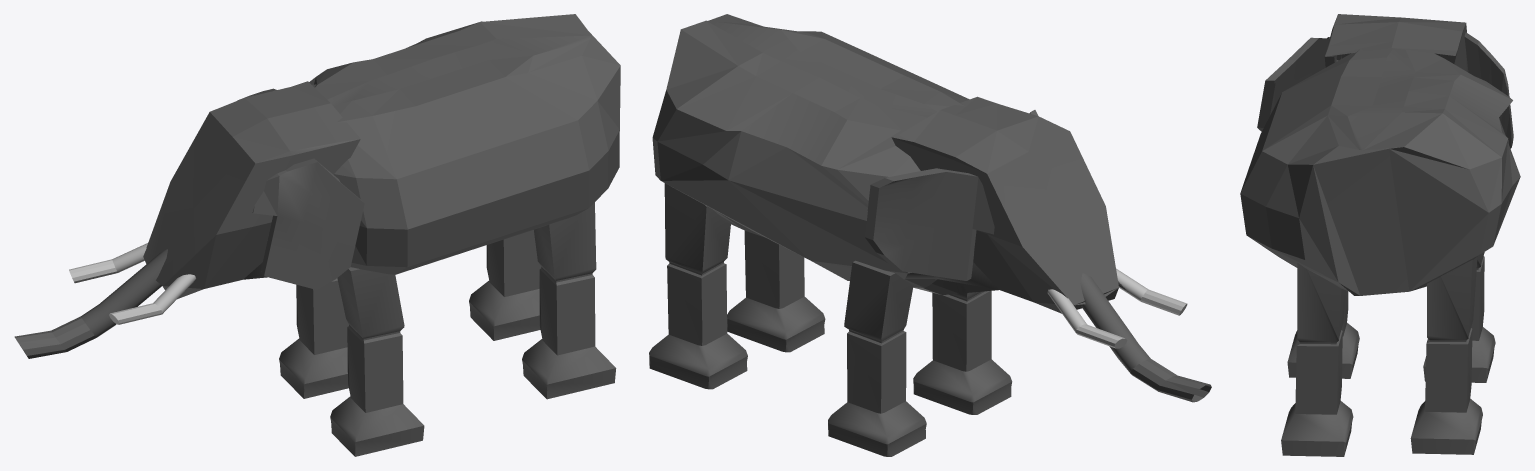
File: elephant_74091fb3.glb
3 renders of one model, left to right at view 1: azimuth 30°, elevation 25°; view 2: azimuth 150°, elevation 25°; view 3: azimuth 270°, elevation 25°, orthographic.
Parts seen in each view (by area): view 1: Plane002; view 2: Plane002; view 3: Plane002.
Part boxes in pixels (<box>): Plane002: <box>14,14,620,456</box>; Plane002: <box>649,14,1211,456</box>; Plane002: <box>1240,14,1520,456</box>.
Size of the model in its own units: 85.3 by 50.71 by 38.3.
Materials: 1 (1 with a texture image).
